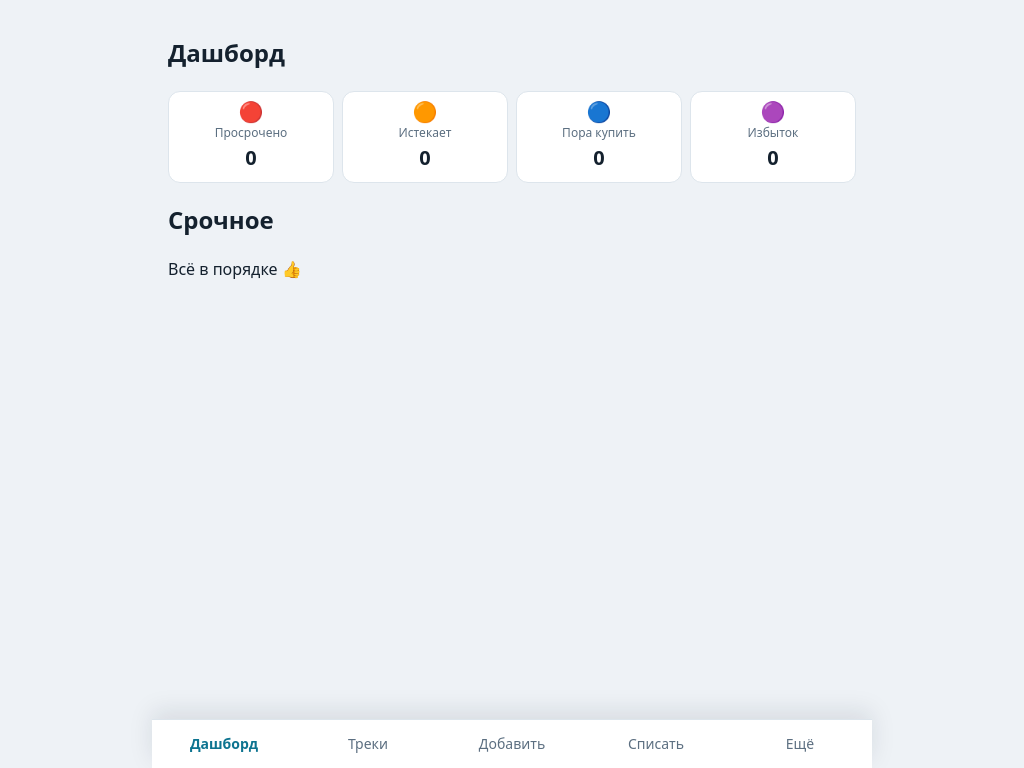
Test case: App › таб-бар переключает вкладку, даже когда открыта карточка трека
Click the button "Треки" at (368, 744), box top-left (296, 720), bottom-right (440, 767)
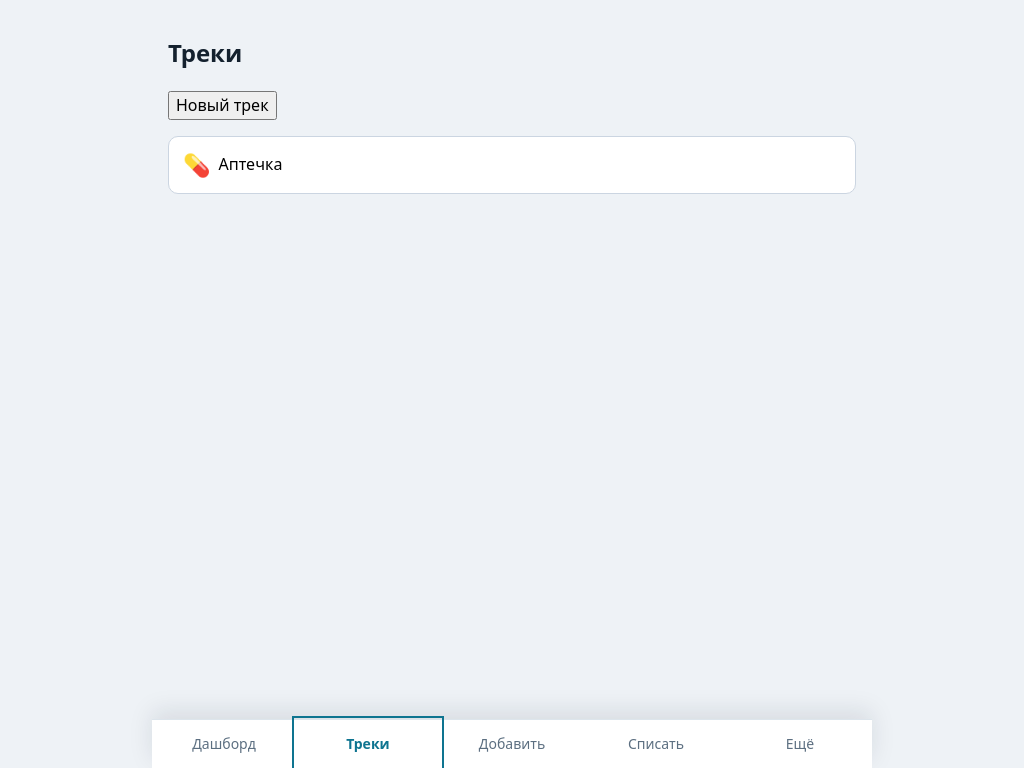
Click the button "💊 Аптечка" at (250, 164), box top-left (168, 136), bottom-right (856, 194)
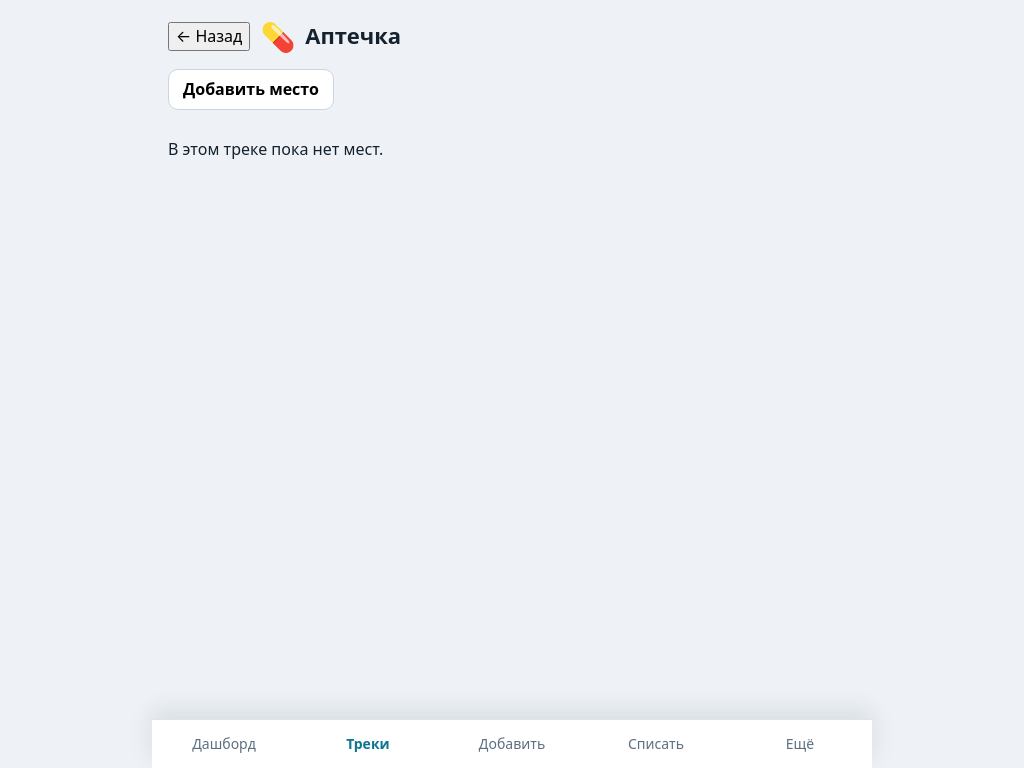
Now the heading "Аптечка" is shown, box top-left (305, 20), bottom-right (401, 52)
# клик по табу «Дашборд».
Click the button "Дашборд" at (224, 744), box top-left (152, 720), bottom-right (296, 767)
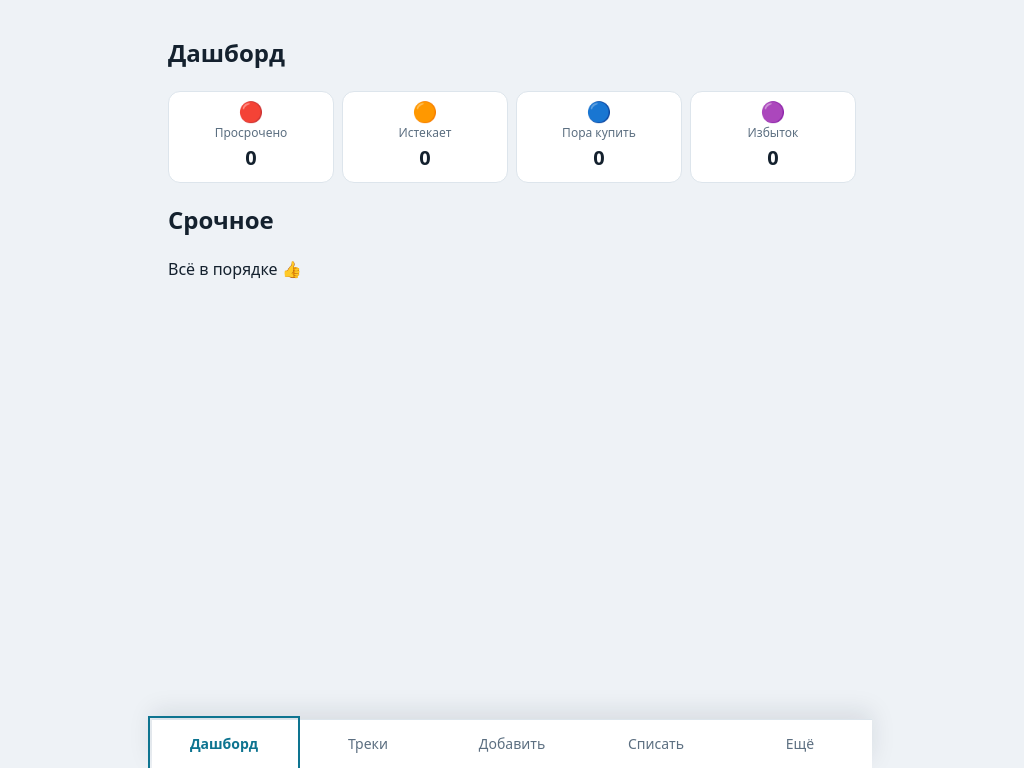
Now the heading "Дашборд" is shown, box top-left (168, 36), bottom-right (285, 69)
Now the heading "Аптечка" is gone
